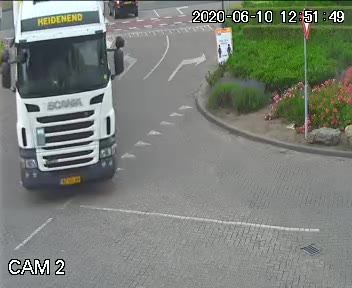car: (1, 0, 135, 211), (108, 0, 148, 24)
